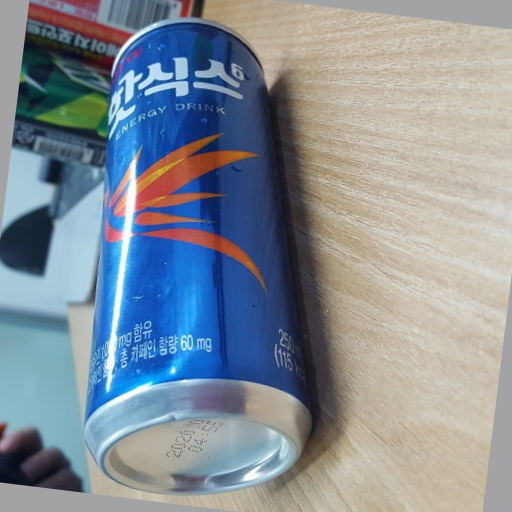Metal_0: (83, 21, 315, 493)
